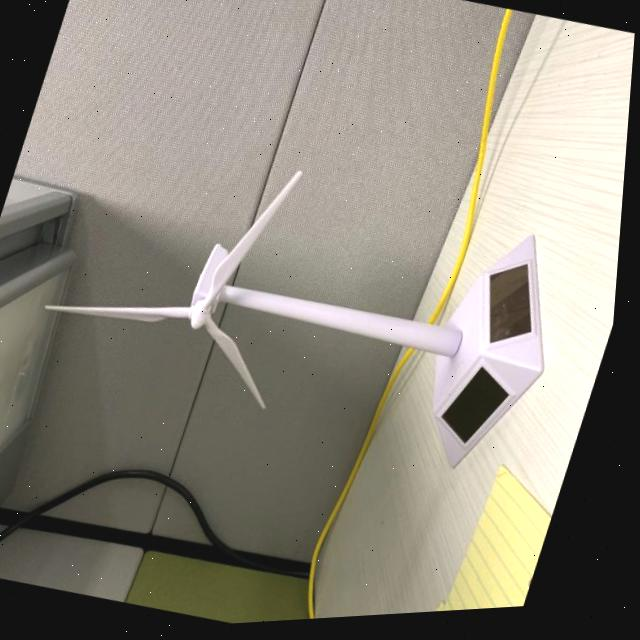solid-blade: (209, 173, 305, 310), (208, 315, 273, 411), (49, 305, 194, 323)
